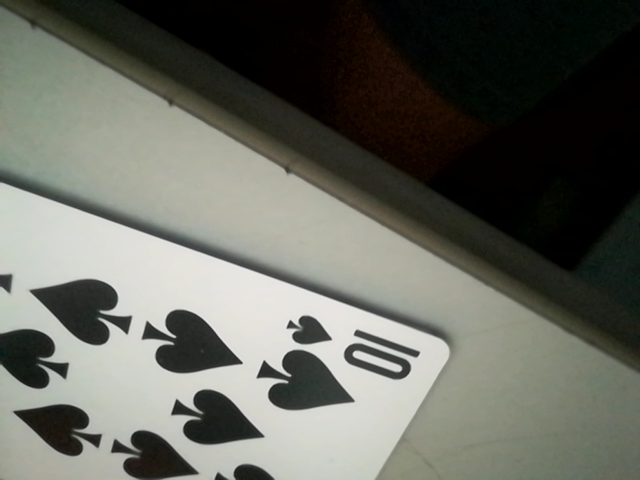ht 10: (279, 311, 435, 380)
